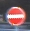No entry: (5, 6, 25, 26)
